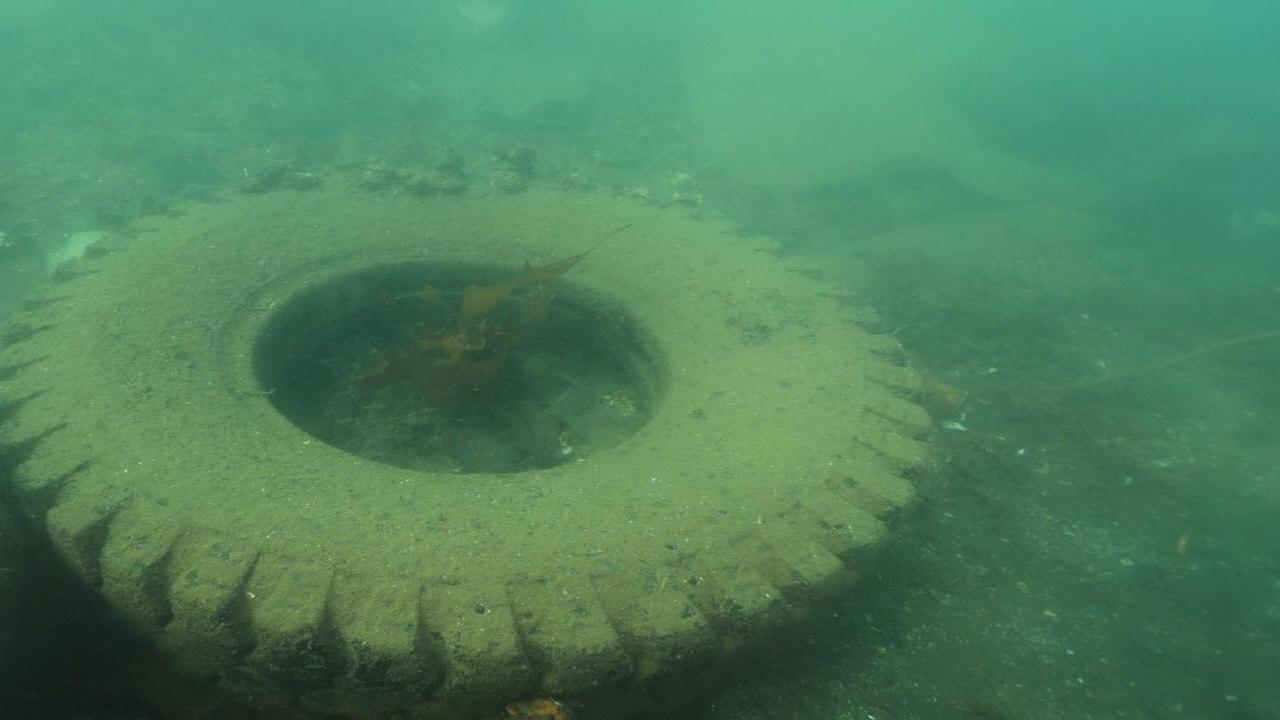tire: (0, 162, 926, 718)
